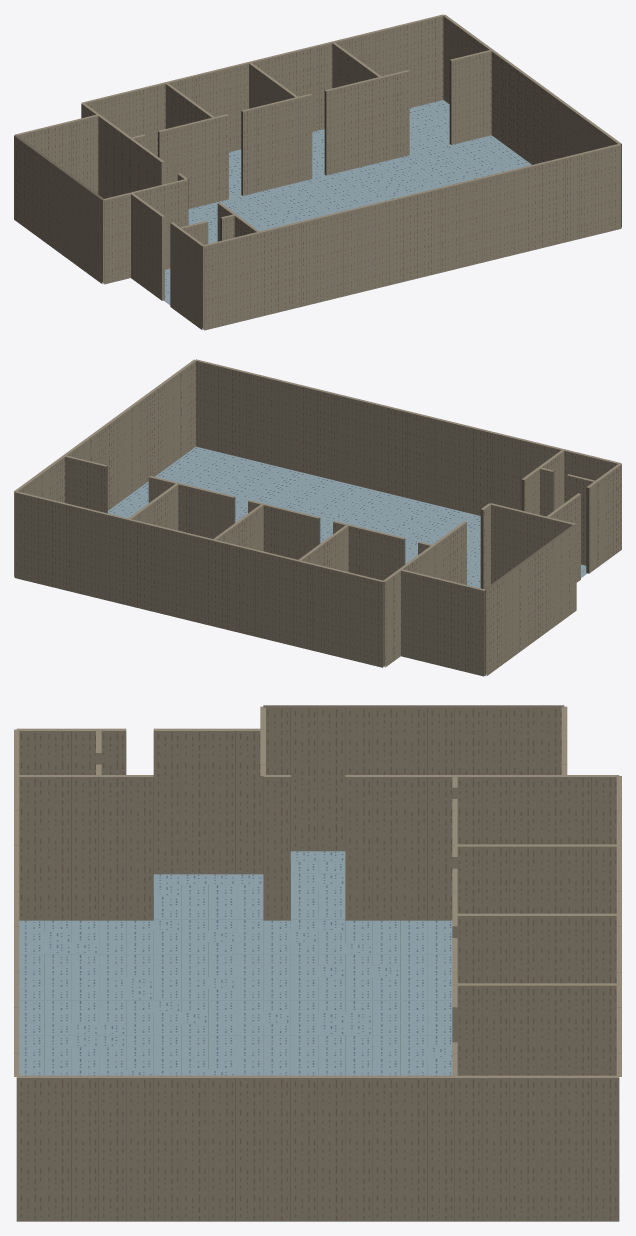
The model's file is office.fbx.
The picture shows the model from 3 angles, top to bottom: view 1: azimuth 30°, elevation 25°; view 2: azimuth 150°, elevation 25°; view 3: azimuth 270°, elevation 25°; orthographic projection. The views are drawn at different scales.
Parts seen in each view (by area): view 1: office; view 2: office; view 3: office.
Part boxes in pixels (bbox=[...]): office: bbox=[14, 14, 621, 330]; office: bbox=[14, 359, 621, 676]; office: bbox=[14, 705, 621, 1221].
Size of the model in its own units: 3220 by 578 by 2220.
